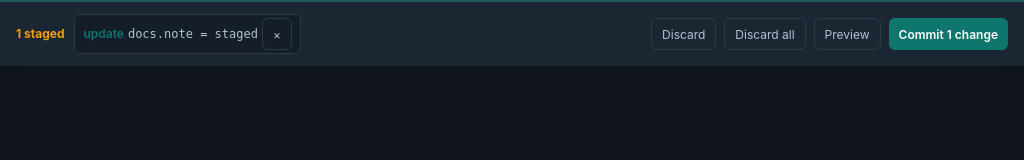
CommitBar — staged atomic commits (S02) › lists staged operations and commits them as one batch
The image size is (1024, 160).
Expected: the text "docs.note = staged" is shown, [128,25,258,43]
Click the button titled "Commit all staged edits as one atomic batch": x=948, y=34 [888,18,1008,50]
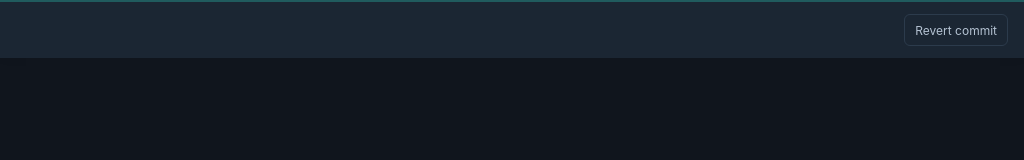
Expected: the button titled "Undo committed batch" is shown, [904,14,1008,46]
